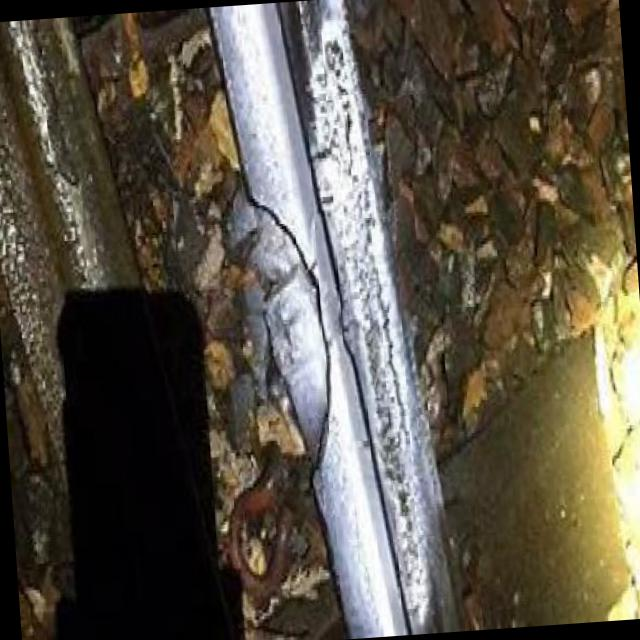defective: (102, 12, 502, 640)
